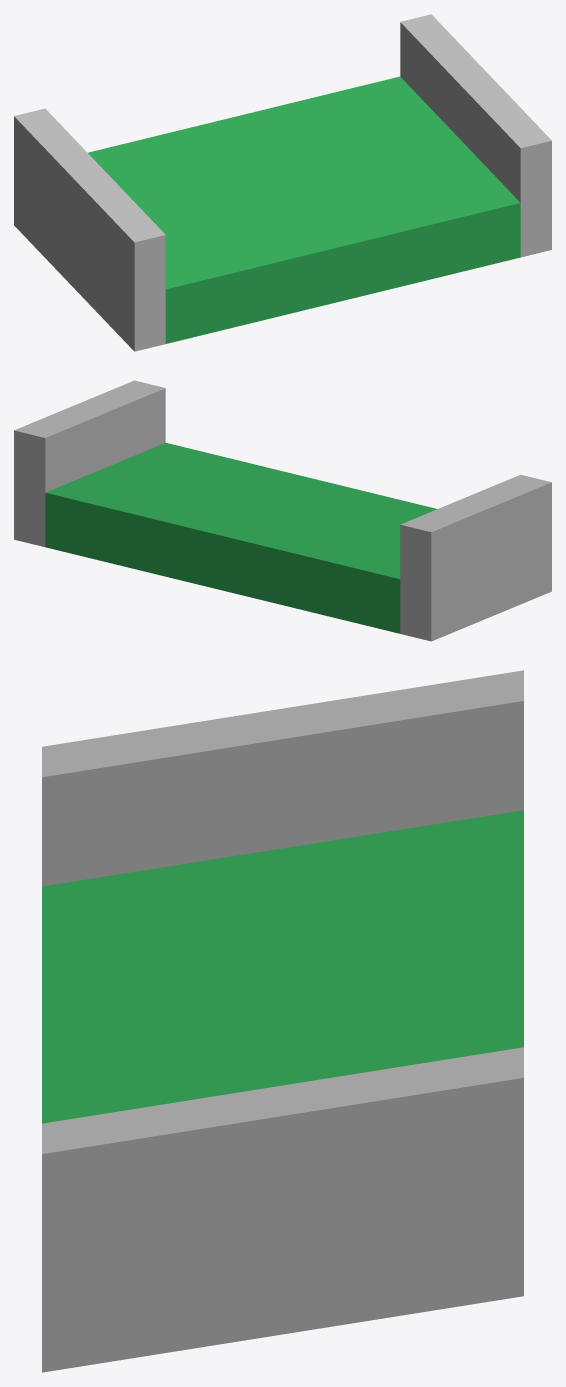
The model's file is SPW_Terrain_City River_Plan A_Down.gltf.
3 views of the same model, one above another, from view 1: azimuth 30°, elevation 25°; view 2: azimuth 150°, elevation 25°; view 3: azimuth 270°, elevation 25° (orthographic). The views are drawn at different scales.
Visible parts, largest first — view 1: SPW_Terrain_City_River_Plan_A_Down; view 2: SPW_Terrain_City_River_Plan_A_Down; view 3: SPW_Terrain_City_River_Plan_A_Down.
Boxes of the visible parts, x1,y1,x2,y2 form: SPW_Terrain_City_River_Plan_A_Down: (14,14,551,351); SPW_Terrain_City_River_Plan_A_Down: (14,380,551,641); SPW_Terrain_City_River_Plan_A_Down: (42,670,523,1372).
Size of the model in its own units: 1575 by 531 by 787.
Materials: 1 (1 with a texture image).
